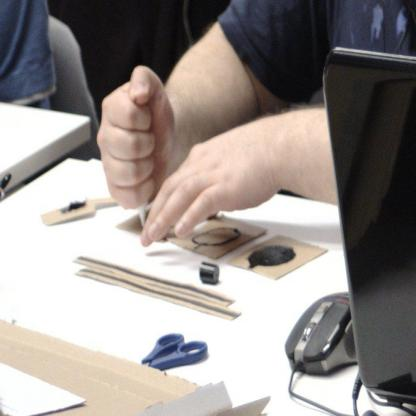board: (323, 46, 416, 414), (140, 330, 209, 374)
